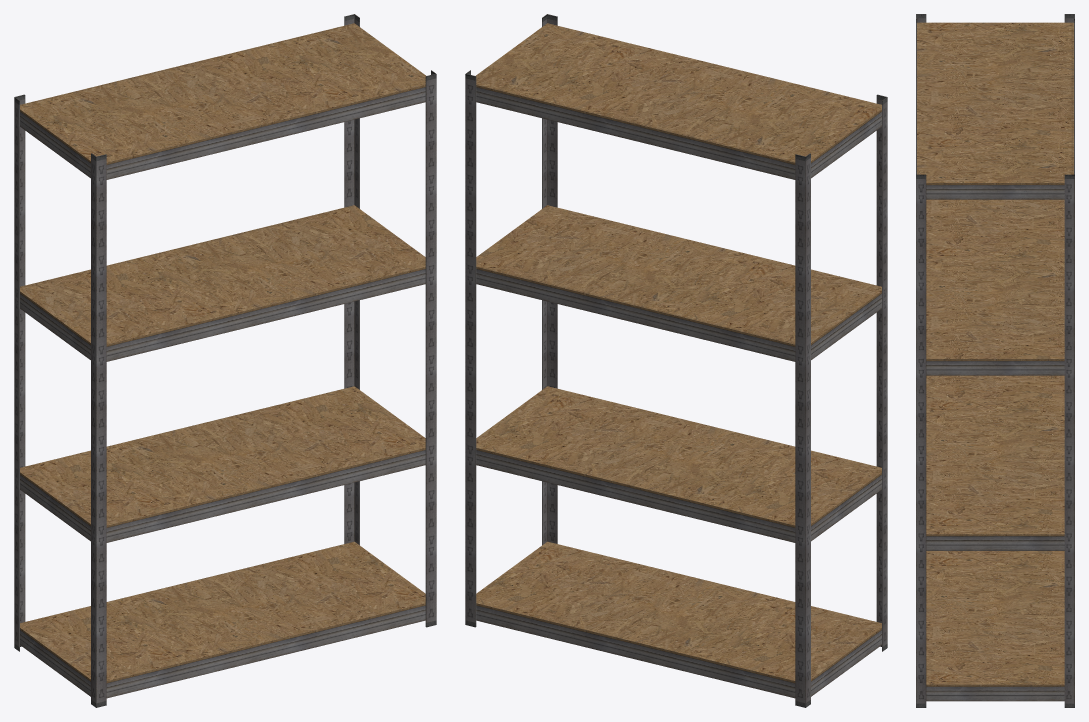
File: ms_metal_shelf.fbx
3 renders of one model, left to right at view 1: azimuth 30°, elevation 25°; view 2: azimuth 150°, elevation 25°; view 3: azimuth 270°, elevation 25°, orthographic. The views are drawn at different scales.
Visible parts, largest first — view 1: ms_metal_shelf; view 2: ms_metal_shelf; view 3: ms_metal_shelf.
Boxes of the visible parts, box(x1,y1,x2,y2) form: ms_metal_shelf: box(14, 14, 436, 707); ms_metal_shelf: box(465, 14, 887, 707); ms_metal_shelf: box(916, 14, 1074, 707).
Bounding box in the file's own units: 126 × 195 × 52.73.
